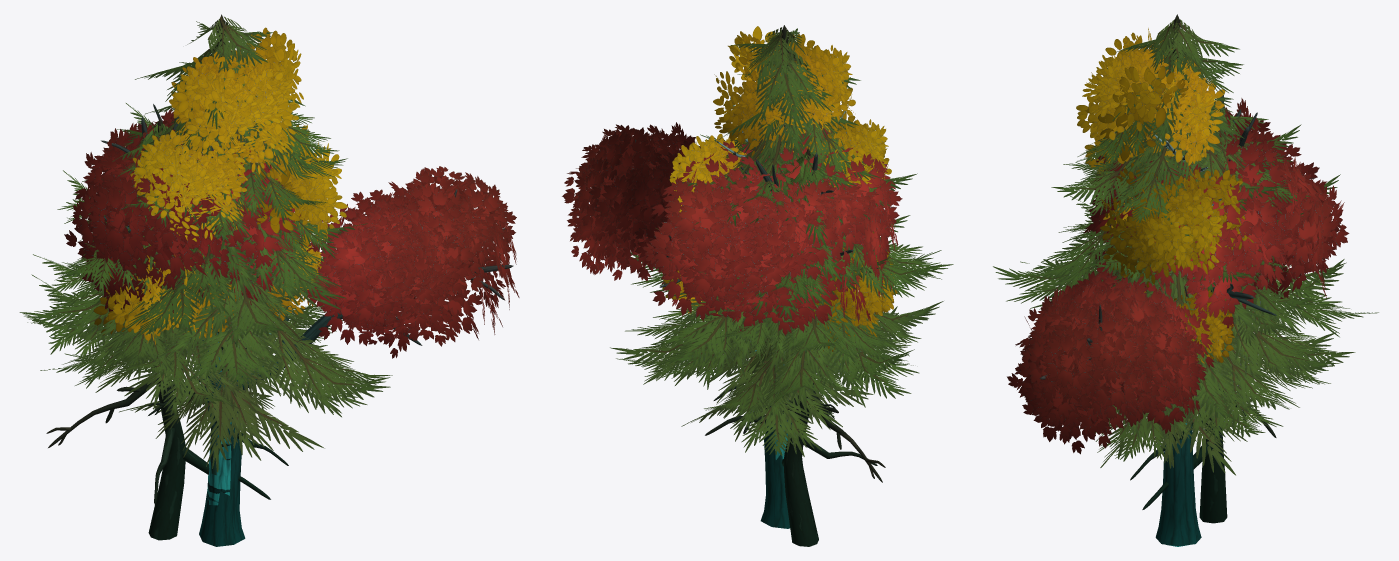
Rendered from trees-lod.glb.
The picture shows the model from 3 angles, left to right: view 1: azimuth 30°, elevation 25°; view 2: azimuth 150°, elevation 25°; view 3: azimuth 270°, elevation 25°; orthographic projection. The views are drawn at different scales.
Parts seen in each view (by area): view 1: LOD0 (×5); view 2: LOD0 (×5); view 3: LOD0 (×5).
Boxes of the visible parts, x1,y1,x2,y2 form: LOD0 (×5): (19, 14, 519, 546); LOD0 (×5): (562, 25, 953, 546); LOD0 (×5): (993, 14, 1378, 546).
Size of what is drawn, in the model's own units: 12.96 by 15.05 by 10.31.
Materials: 5 (5 with a texture image).
